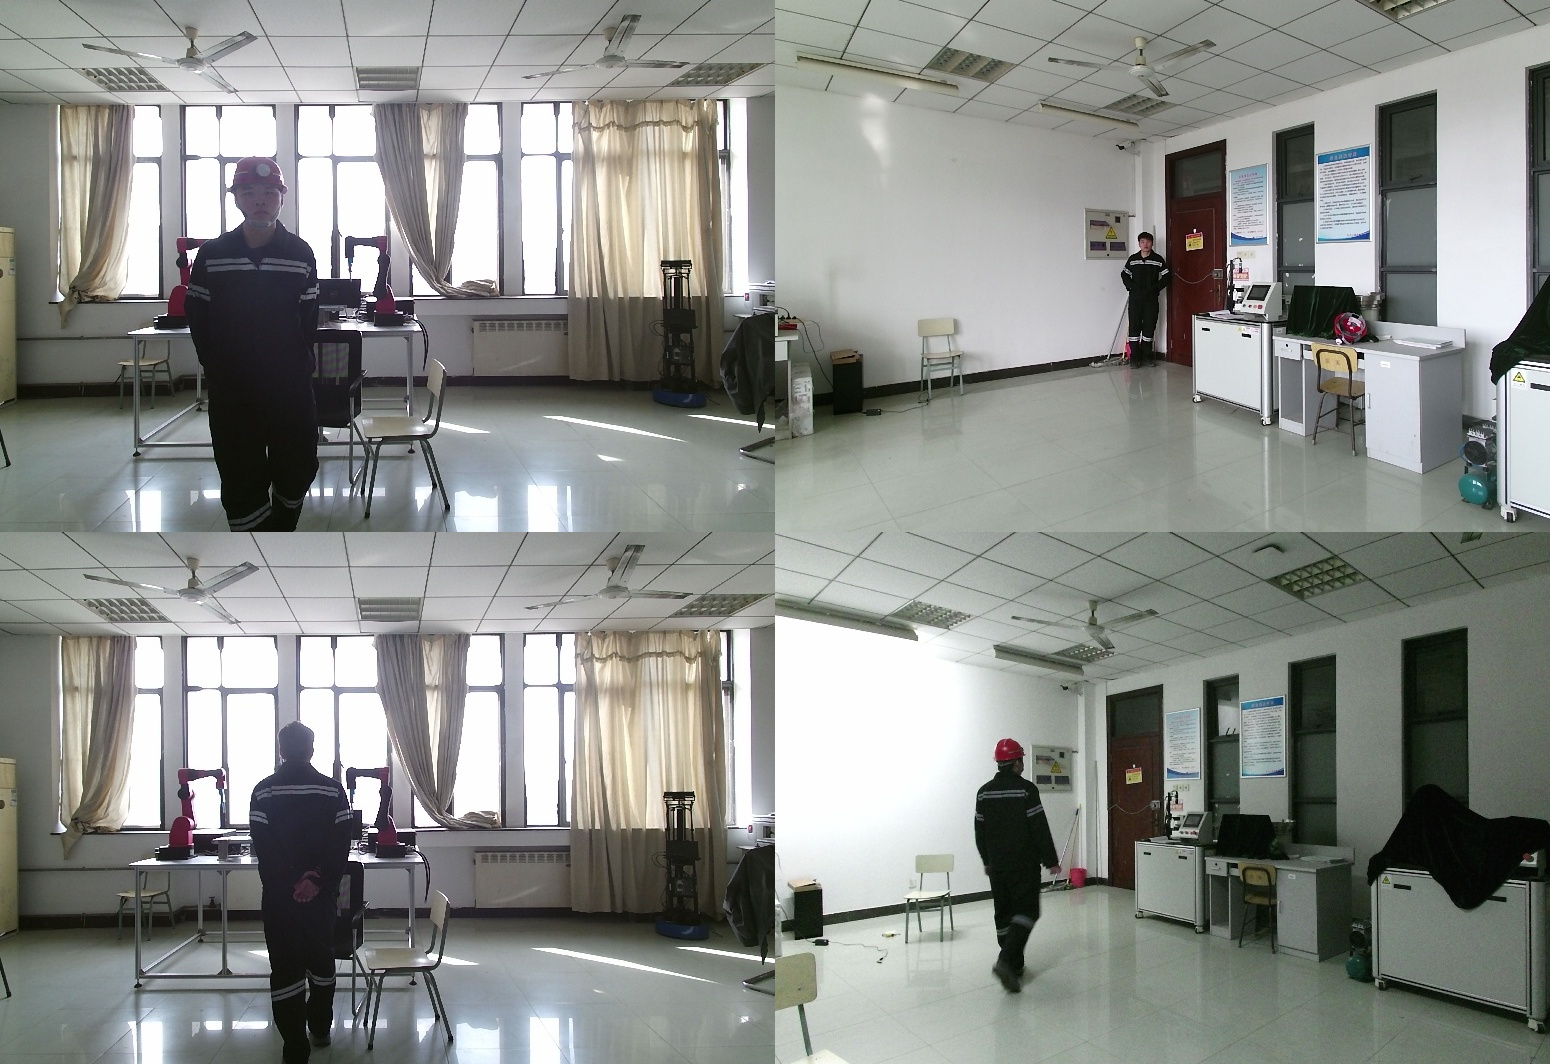person: (183, 159, 331, 532), (246, 724, 355, 1064), (967, 740, 1063, 1002), (1119, 232, 1172, 370)
